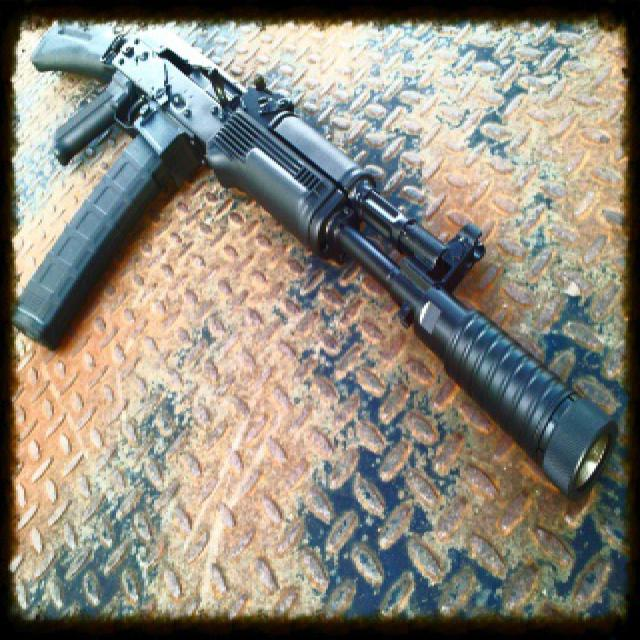long weapon: (8, 7, 624, 499)
